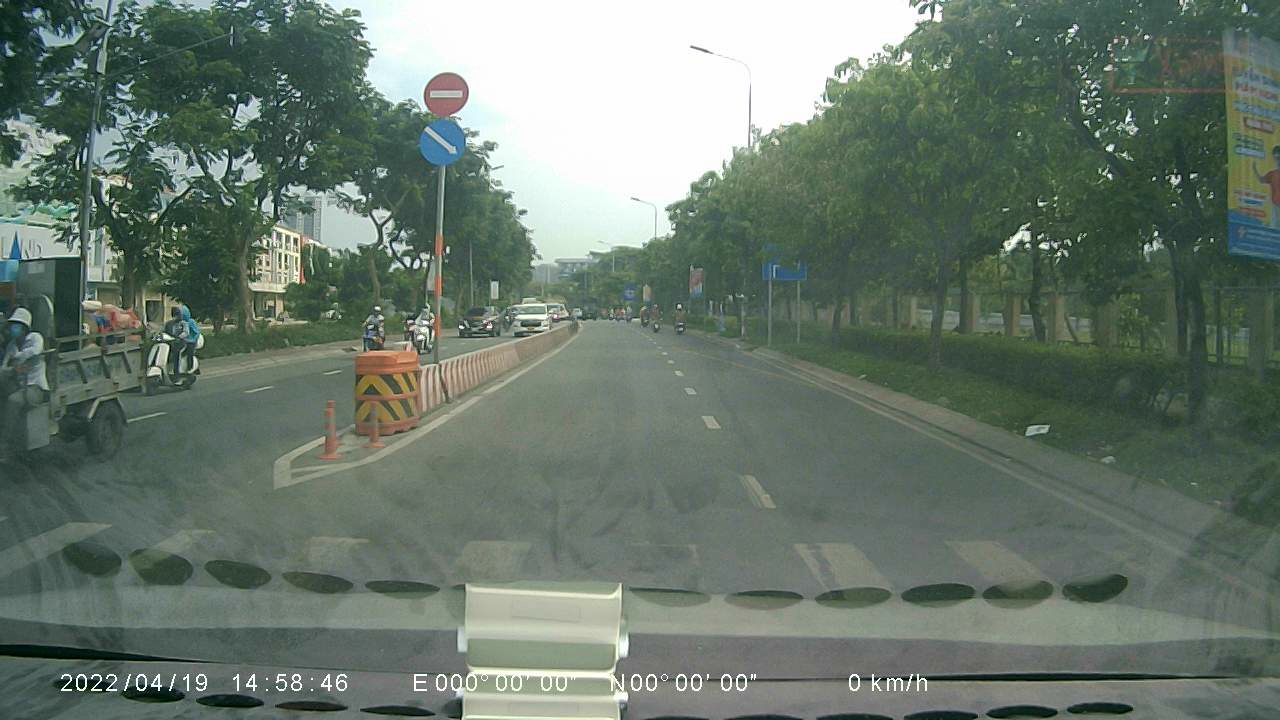Cam di nguoc chieu: (421, 70, 470, 116)
Huong di phai re phai: (417, 117, 463, 168)
